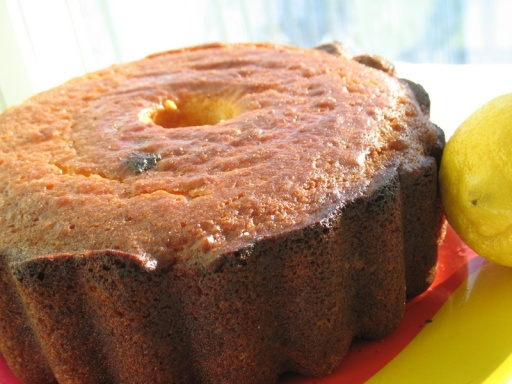background: (0, 23, 410, 230)
